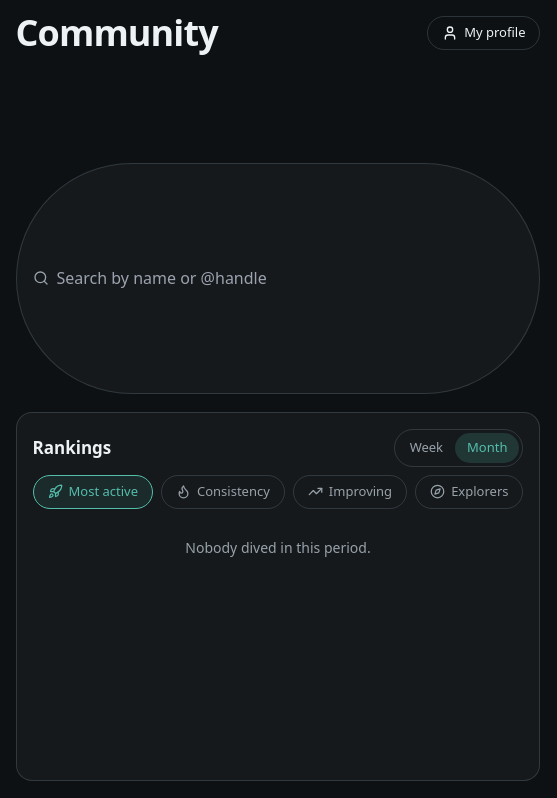
Community discovery › re-enables paging when the query changes during a load-more
Type "a" into the search field at (290, 278), box [56, 266, 524, 290]
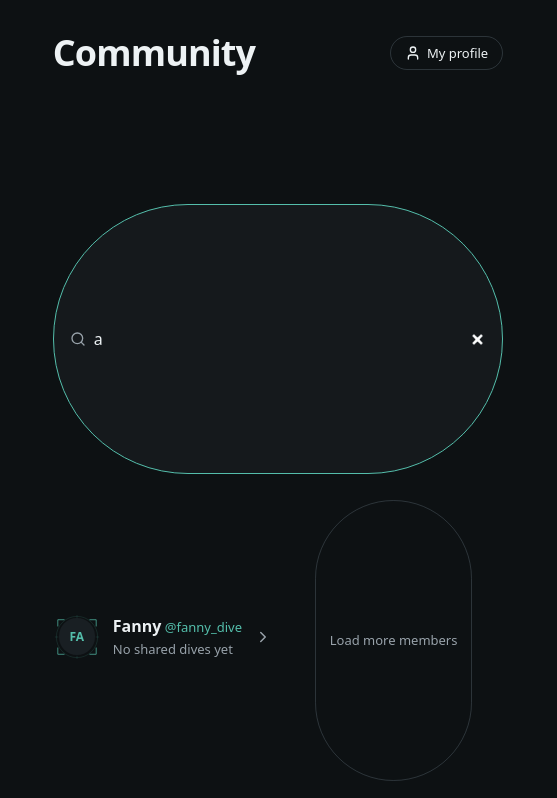
Check: the link "FA Fanny @fanny_dive No shared dives yet" is shown, box [53, 613, 272, 661]
Click the button "Load more members" at (394, 641), box [315, 500, 472, 781]
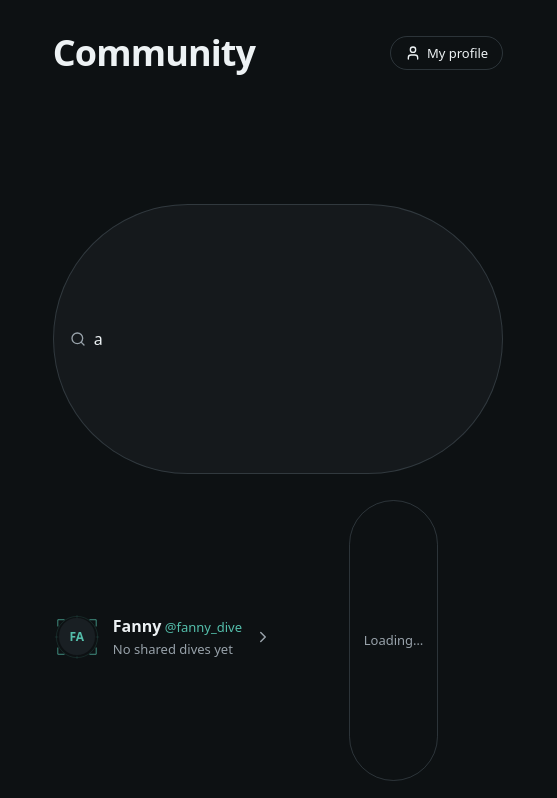
Type "b" into the search field at (290, 339), box [94, 327, 486, 351]
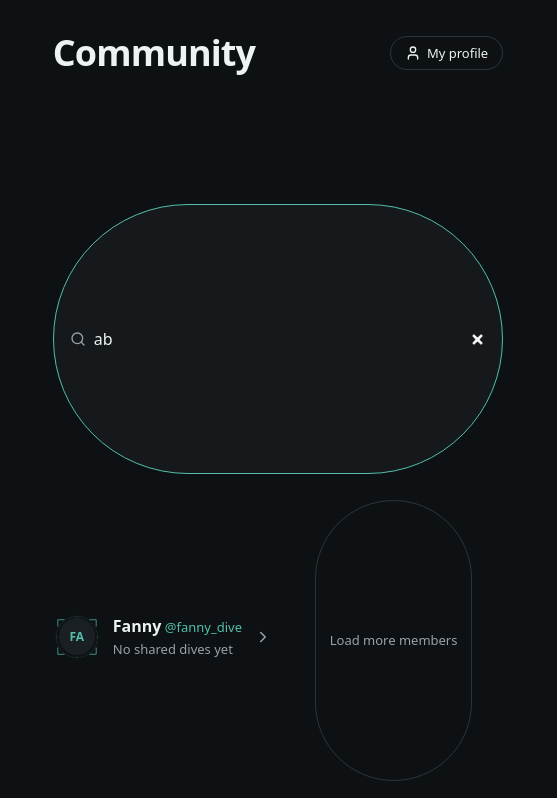
Check: the button "Load more members" is enabled, box [315, 500, 472, 781]
